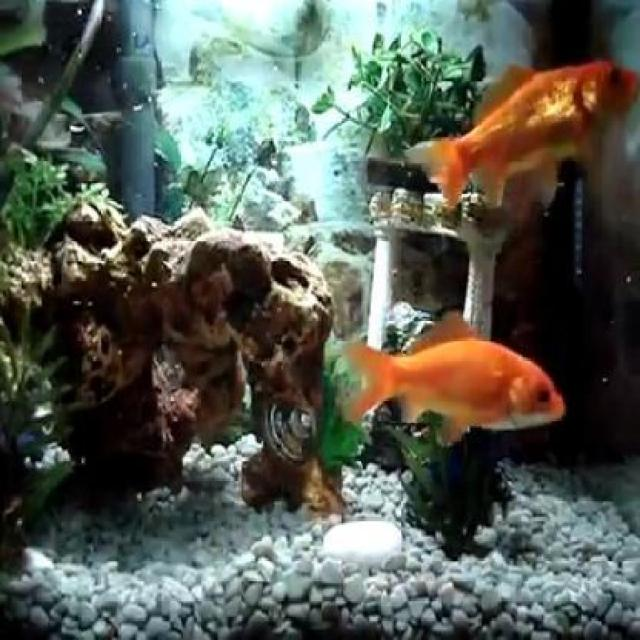GoldFish: (406, 58, 640, 214), (348, 305, 566, 446)
